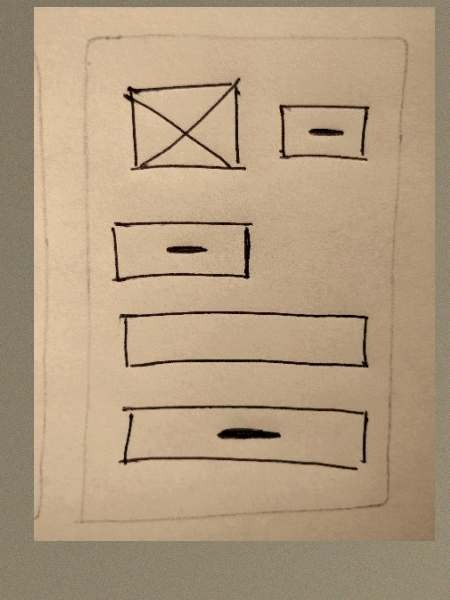button: (112, 398, 372, 482), (104, 216, 256, 291), (274, 100, 373, 167)
image: (118, 76, 252, 181)
text_input: (113, 306, 375, 379)
